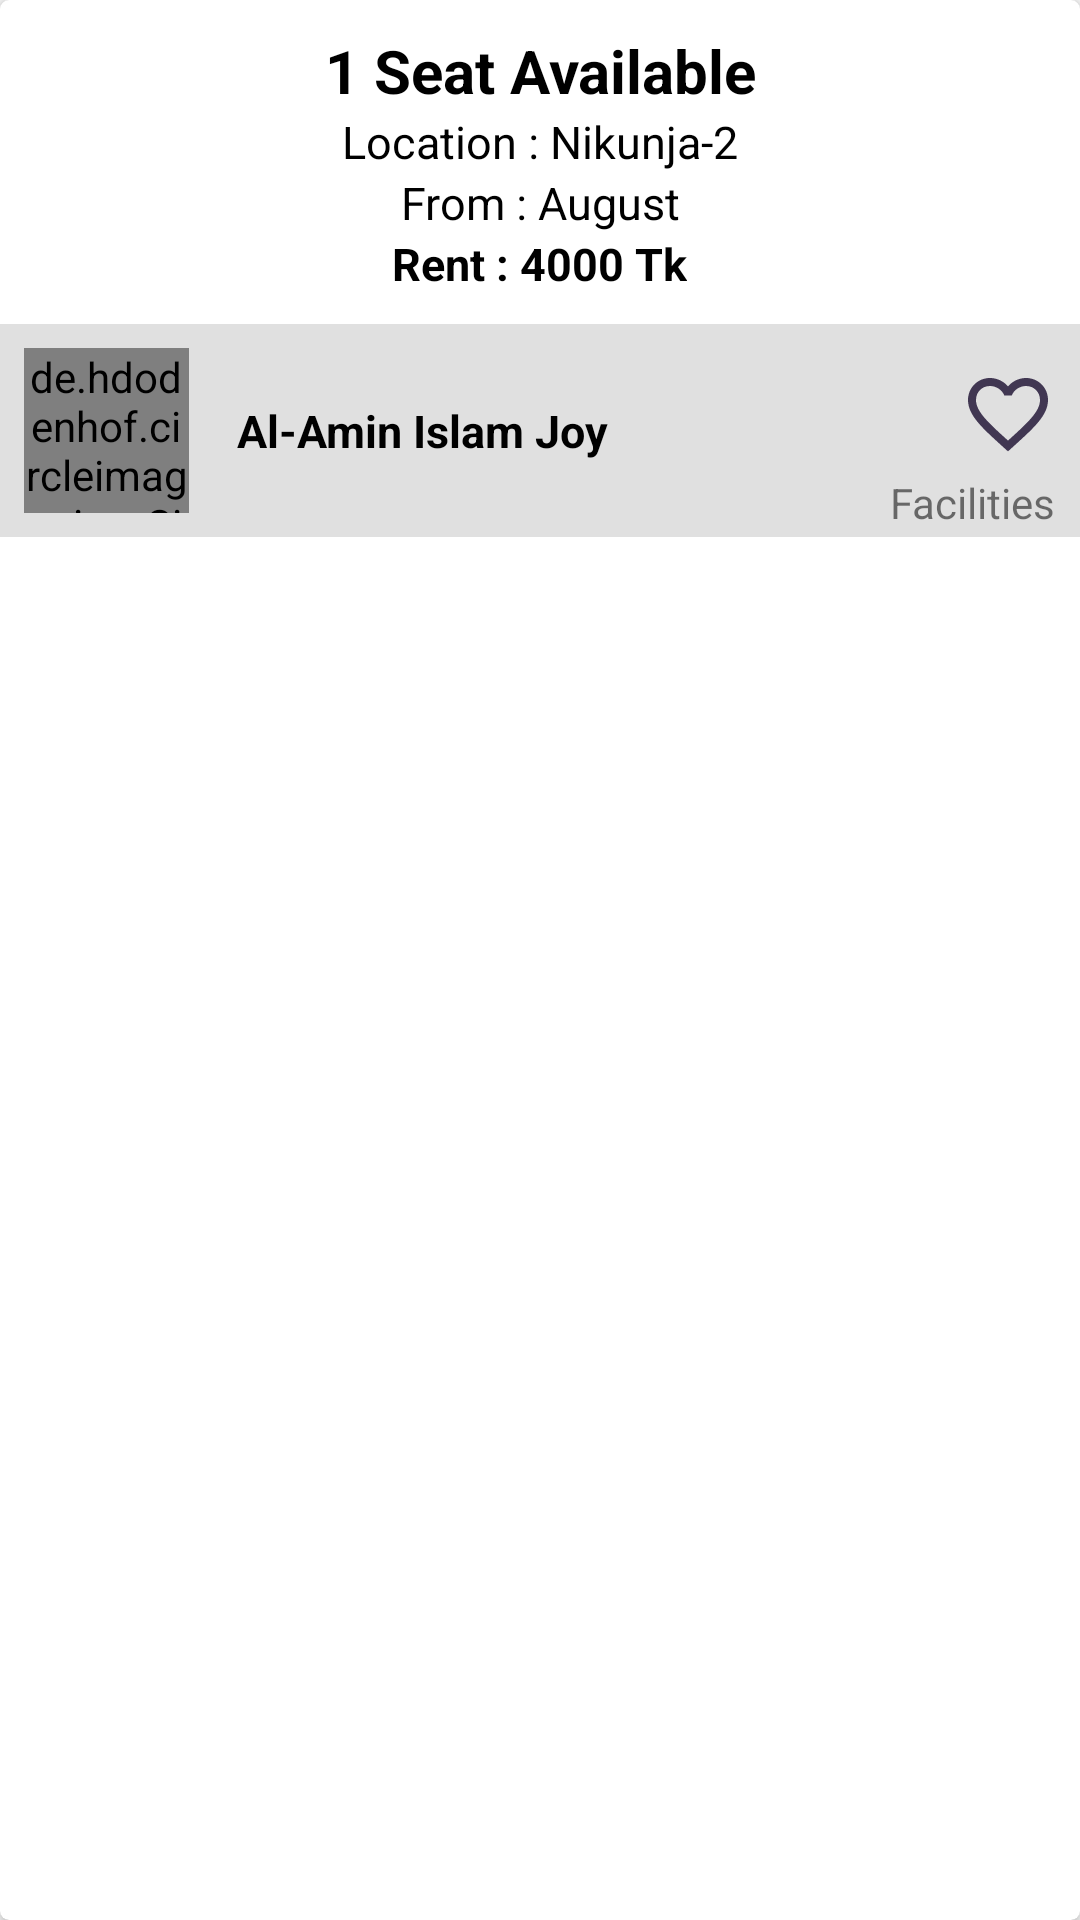

Where icons sit on this 1080w x 1920h app screen, as (x1, y1, x2, y2):
favorite border: (968, 378, 1048, 451)
